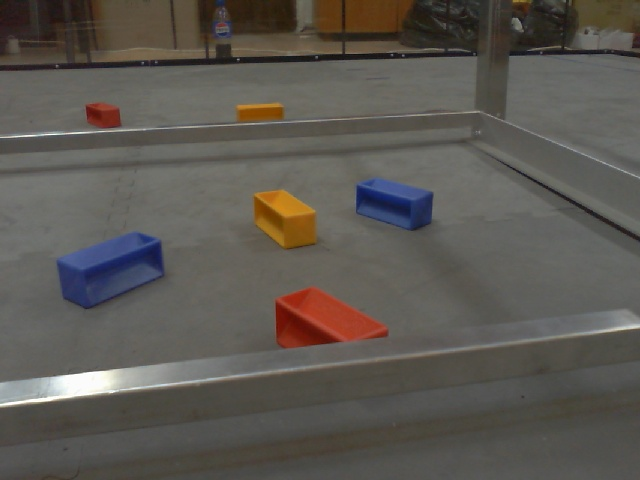BlueSample: (55, 230, 166, 309), (353, 173, 434, 233)
RedSample: (272, 285, 390, 351), (84, 102, 124, 129)
YellowSample: (250, 188, 319, 253), (235, 101, 288, 124)
